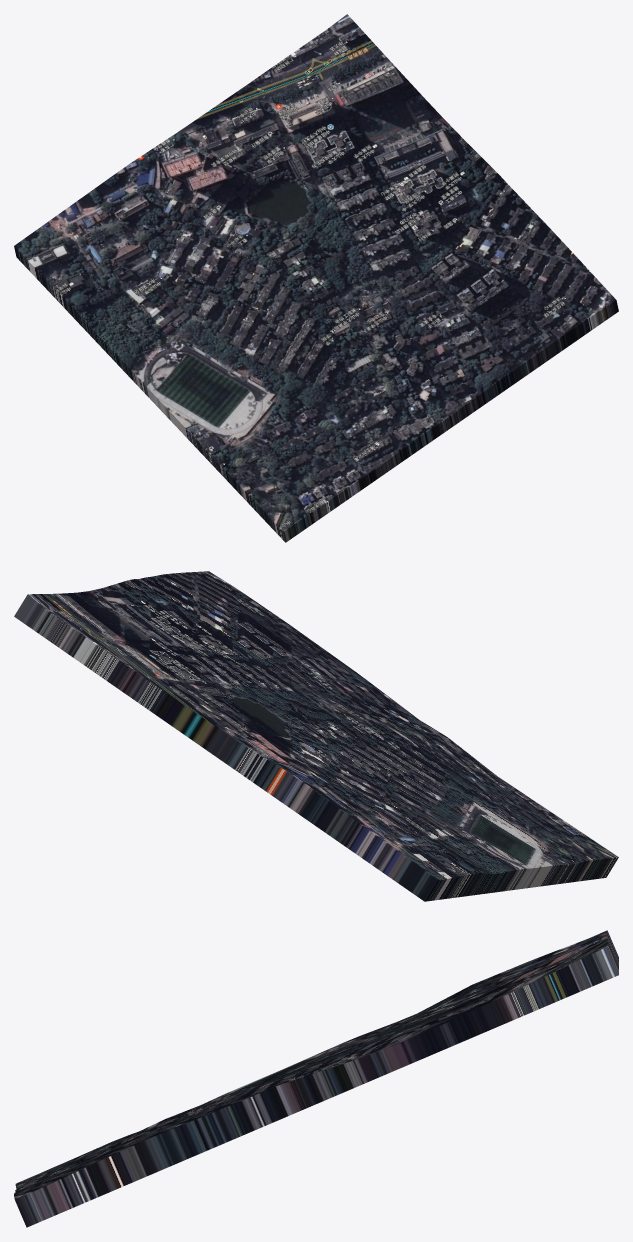
3 views of the same model, one above another, from view 1: azimuth 30°, elevation 25°; view 2: azimuth 150°, elevation 25°; view 3: azimuth 270°, elevation 25° (orthographic). The views are drawn at different scales.
Parts seen in each view (by area): view 1: 0_15_16; view 2: 0_15_16; view 3: 0_15_16.
Part boxes in pixels (<box>): 0_15_16: <box>14,14,618,542</box>; 0_15_16: <box>14,571,618,901</box>; 0_15_16: <box>14,930,618,1227</box>.
Size of the model in its own units: 602 by 452 by 554.
1 material, 1 textured.
